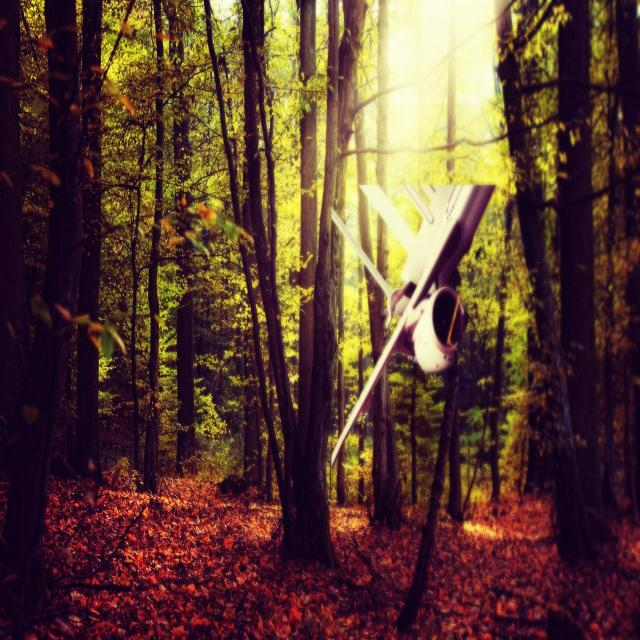airplane: (328, 180, 496, 468)
